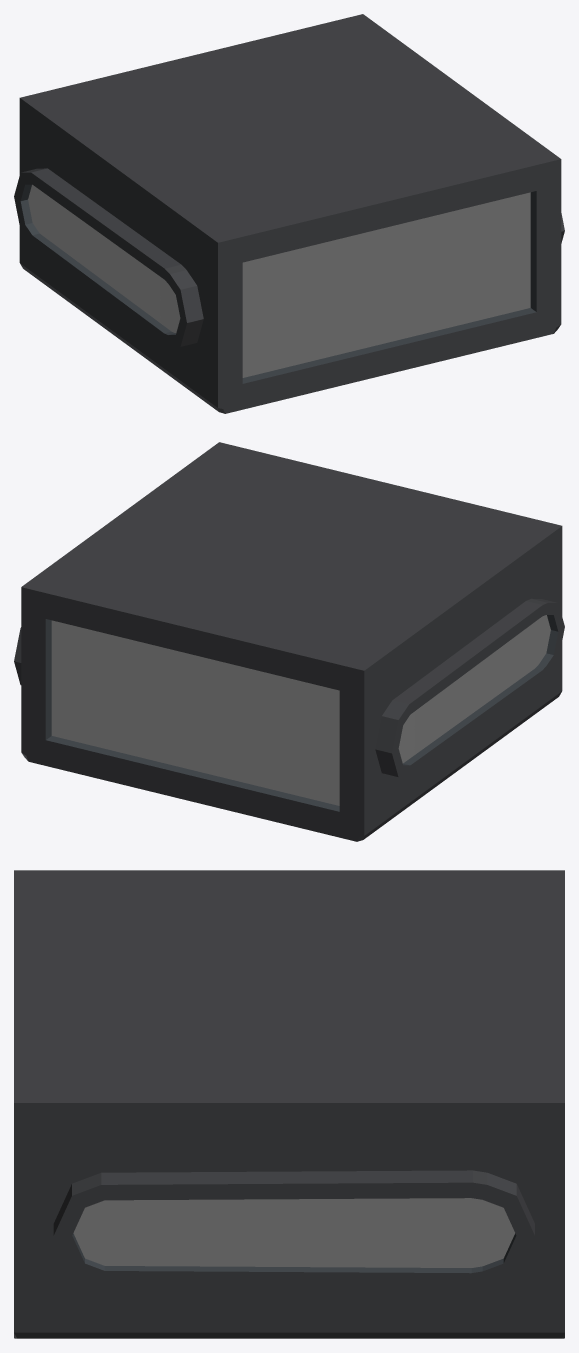
Rendered from LightCube_03.glb.
The picture shows the model from 3 angles, top to bottom: view 1: azimuth 30°, elevation 25°; view 2: azimuth 150°, elevation 25°; view 3: azimuth 270°, elevation 25°; orthographic projection. The views are drawn at different scales.
Visible parts, largest first — view 1: LightCube_03; view 2: LightCube_03; view 3: LightCube_03.
Part boxes in pixels (left/top/right/bottom): LightCube_03: left=14, top=14, right=564, bottom=413; LightCube_03: left=14, top=442, right=564, bottom=841; LightCube_03: left=14, top=870, right=564, bottom=1338.
Size of what is drawn, in the model's own units: 0.8297 by 0.3626 by 0.7533.
2 materials, 2 textured.
